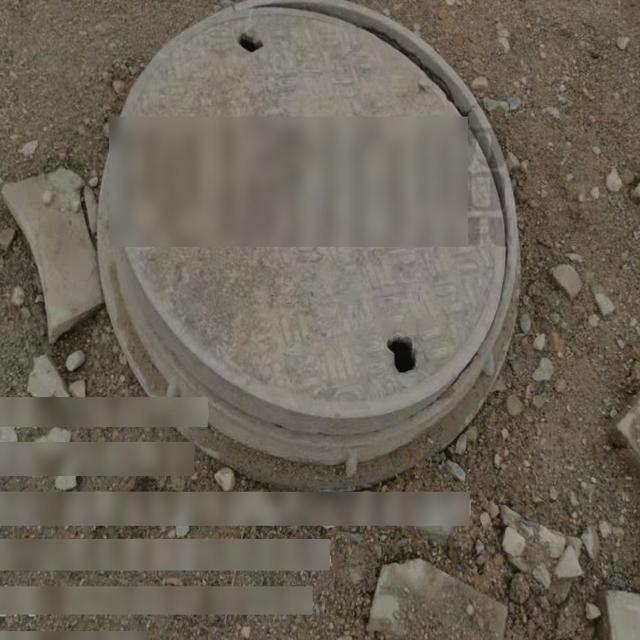uncovered: (97, 0, 521, 489)
